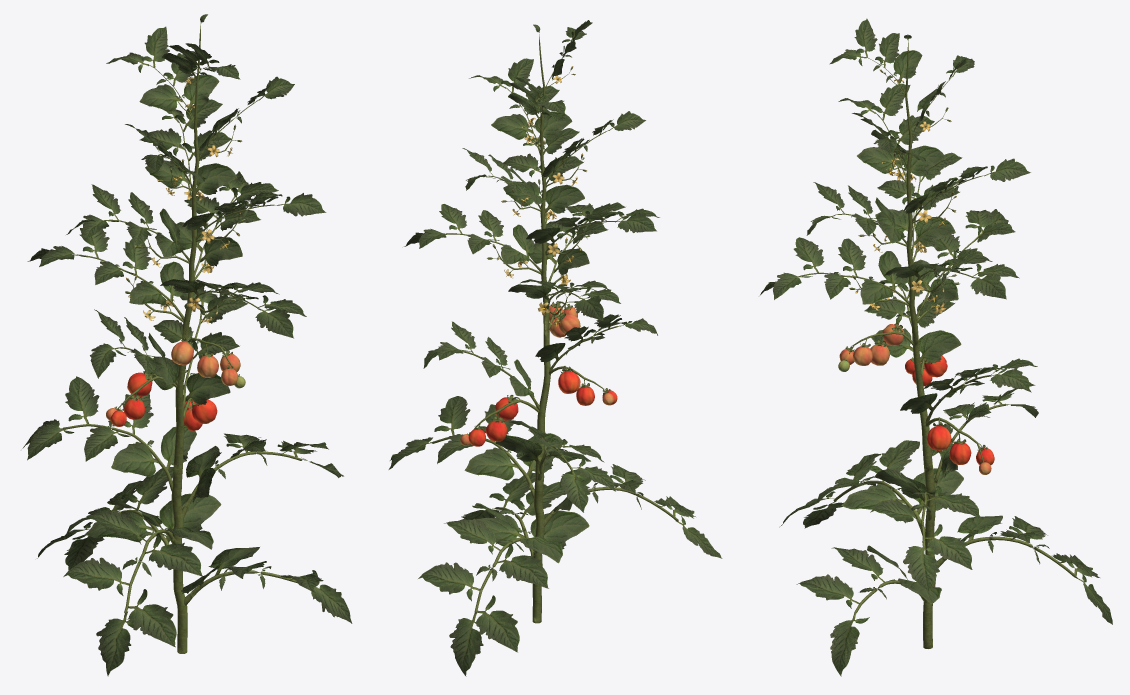
Rendered from tomato4.dae.
The picture shows the model from 3 angles, left to right: view 1: azimuth 30°, elevation 25°; view 2: azimuth 150°, elevation 25°; view 3: azimuth 270°, elevation 25°; orthographic projection. The views are drawn at different scales.
Visible parts, largest first — view 1: Leaf2, Leaf1, Branch1, Fruit1, Fruit3, Blossom1, Blossom3; view 2: Leaf2, Leaf1, Branch1, Fruit1, Blossom1, Fruit3, Blossom3; view 3: Leaf2, Leaf1, Branch1, Fruit1, Fruit3, Blossom1, Blossom3.
Part boxes in pixels (x1,y1,x2,y2): Leaf2: (22,26,352,676); Leaf1: (85,14,259,593); Branch1: (63,22,301,653); Fruit1: (110,372,217,430); Fruit3: (106,341,240,420); Blossom1: (125,77,245,322); Blossom3: (114,80,244,410); Leaf2: (388,20,722,676); Leaf1: (464,24,604,563); Branch1: (432,34,678,623); Fruit1: (468,371,617,446); Blossom1: (487,66,589,324); Fruit3: (460,303,614,445); Blossom3: (467,67,610,435); Leaf2: (760,18,1112,676); Leaf1: (841,34,1002,603); Branch1: (801,39,1077,648); Fruit1: (905,355,994,465); Fruit3: (839,324,991,474); Blossom1: (849,69,960,314); Blossom3: (843,69,987,462).
Bounding box in the file's own units: 0.7392 × 0.7641 × 1.44.
